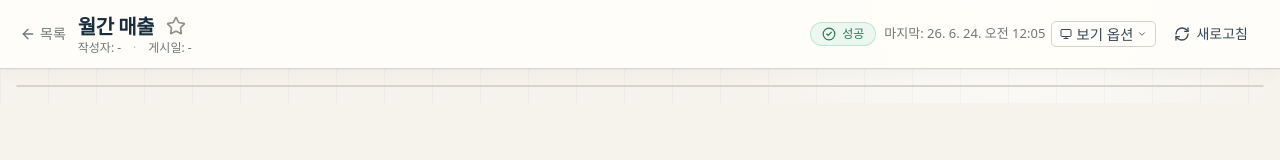
Test: ReportViewPage › 새로고침 403 시 권한 없음 안내를 표시한다
Click the button "새로고침" at x=1211, y=34, box [1162, 18, 1260, 50]
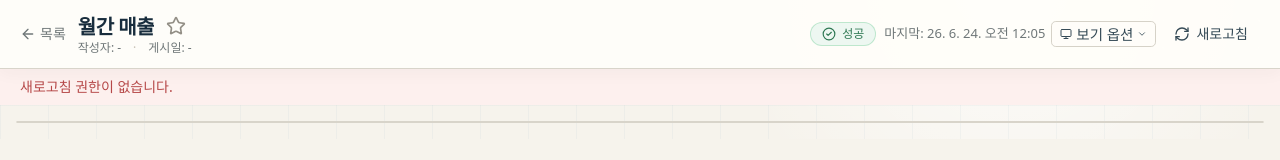
Now the text "새로고침 권한이 없습니다." is shown, box [0, 69, 1279, 105]
